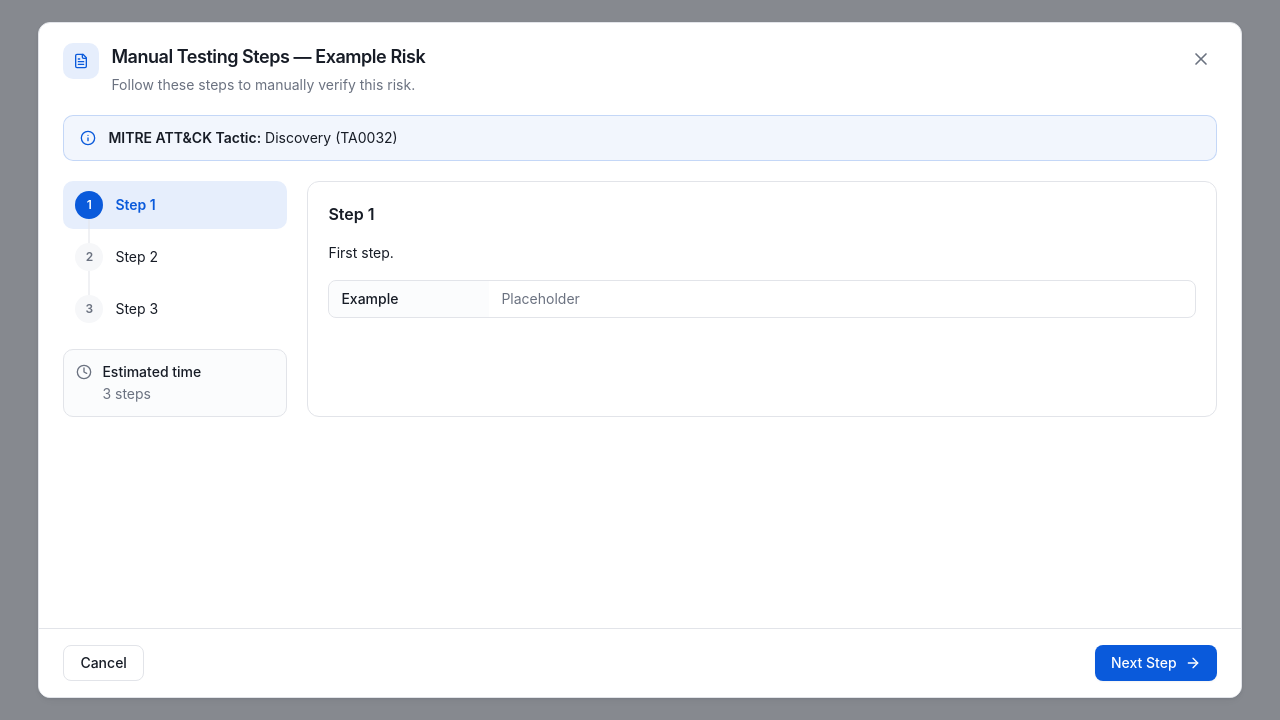
it: manual-test step navigation › changes the active step when another is chosen, without leaving the route
The image size is (1280, 720).
Click the button "3 Step 3" at coordinates (175, 309), box [63,285,287,333]
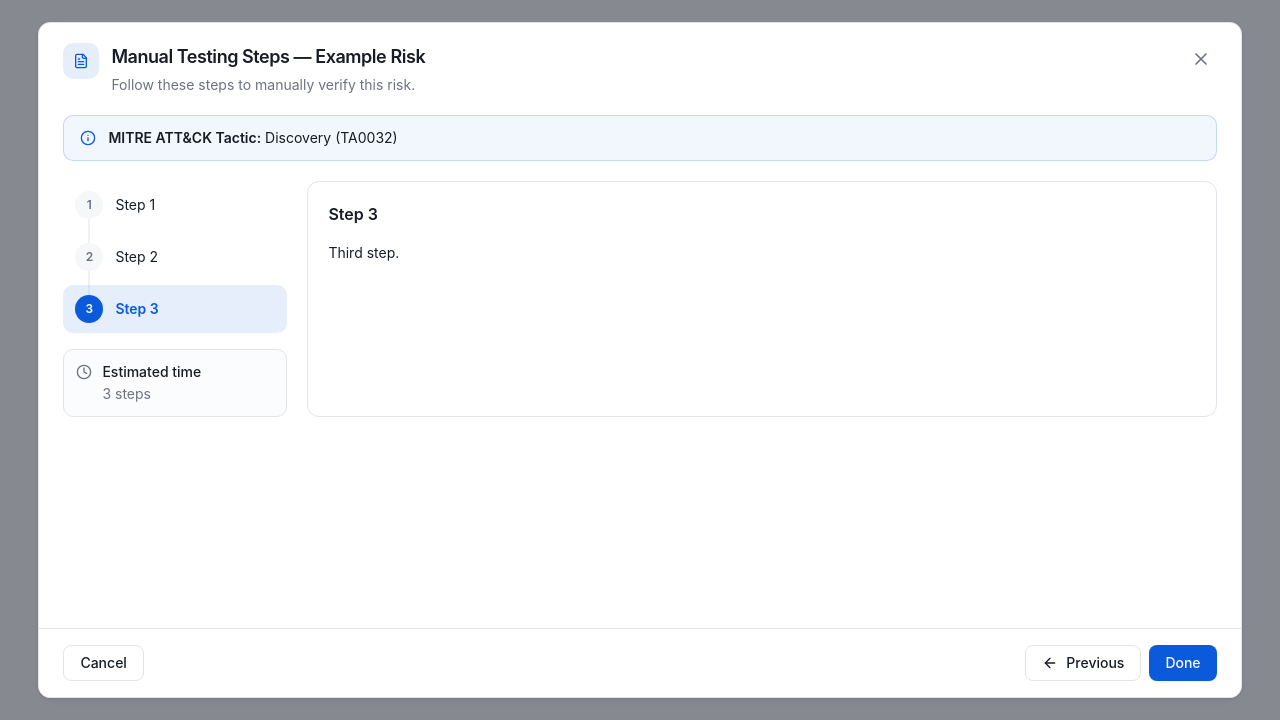
expect the text "Third step." is shown: met, box [328,244,399,261]
expect the text "First step." is gone: met
